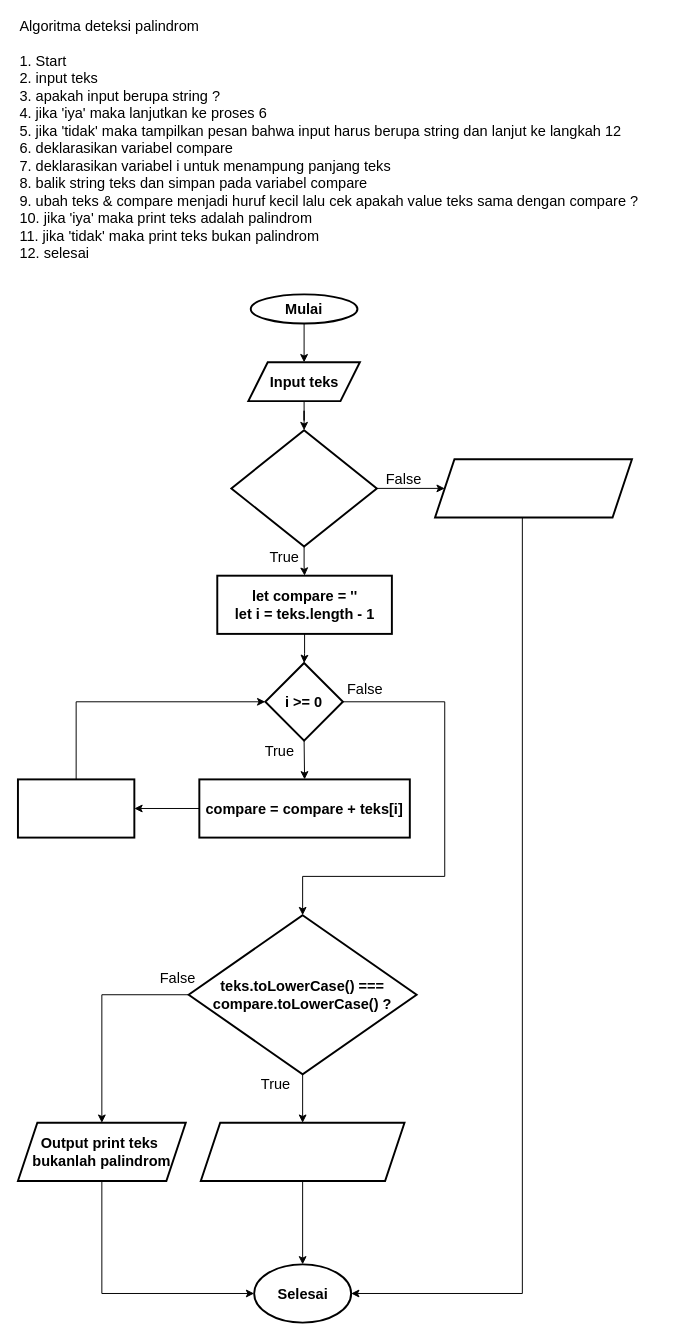
The diagram is 694 pixels wide and 1340 high, and some of its shapes have lost their labels. Here are the shapes that lost their labels. From the top down, the centre of each, then its label:
At (303,488): "typeOf teks === 'string' ?".
At (533,488): "Output print 'input harus berupa string'".
At (75,808): "i--".
At (302,1151): "output print teks adalah palindrom".
